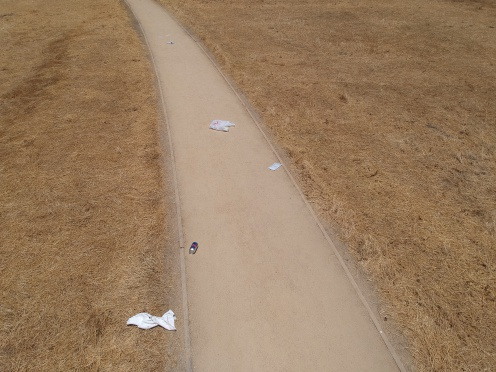can: (183, 238, 201, 254)
plastic bag: (206, 116, 236, 134)
